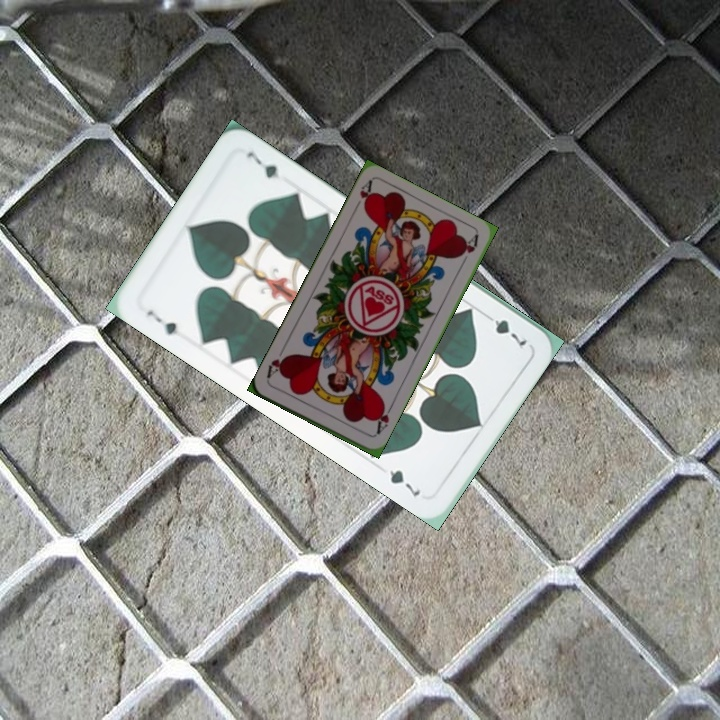G7: (479, 309, 530, 349), (142, 306, 181, 338)
HA: (370, 399, 395, 439), (349, 177, 375, 215)
